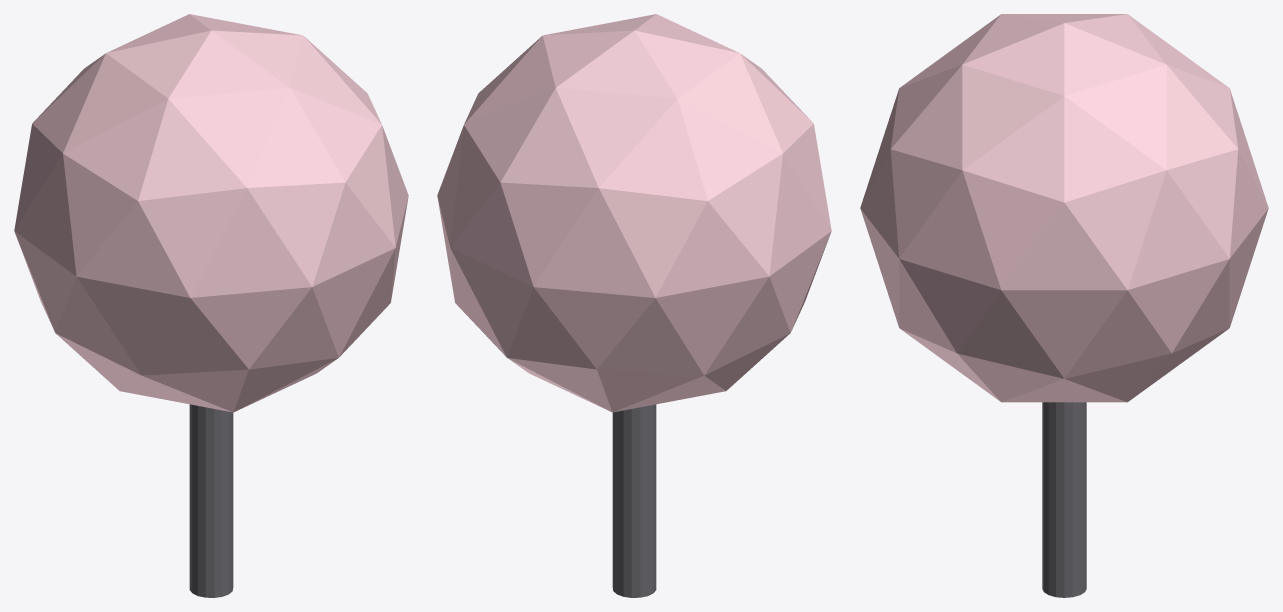
The model's file is tree_small.glb.
3 views of the same model, side by side, from view 1: azimuth 30°, elevation 25°; view 2: azimuth 150°, elevation 25°; view 3: azimuth 270°, elevation 25° (orthographic).
Visible parts, largest first — view 1: tree; view 2: tree; view 3: tree.
Boxes of the visible parts, box(x1,y1,x2,y2) form: tree: box(14, 14, 408, 597); tree: box(437, 14, 831, 597); tree: box(860, 14, 1268, 597).
Bounding box in the file's own units: 1.05 × 1.68 × 1.1.
